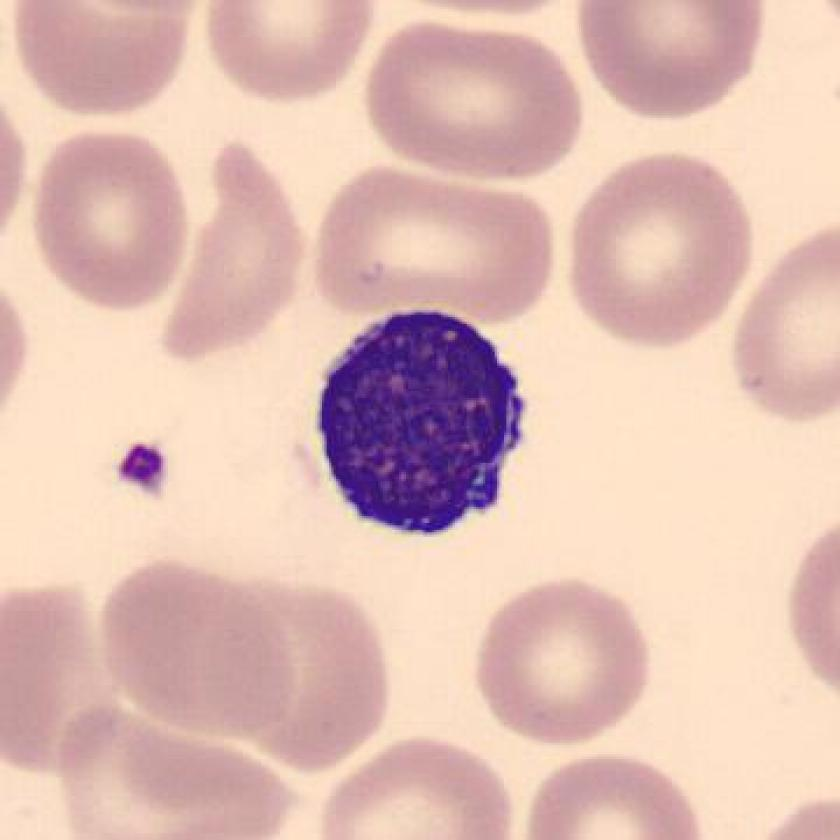lymphocyte: (298, 300, 550, 550)
